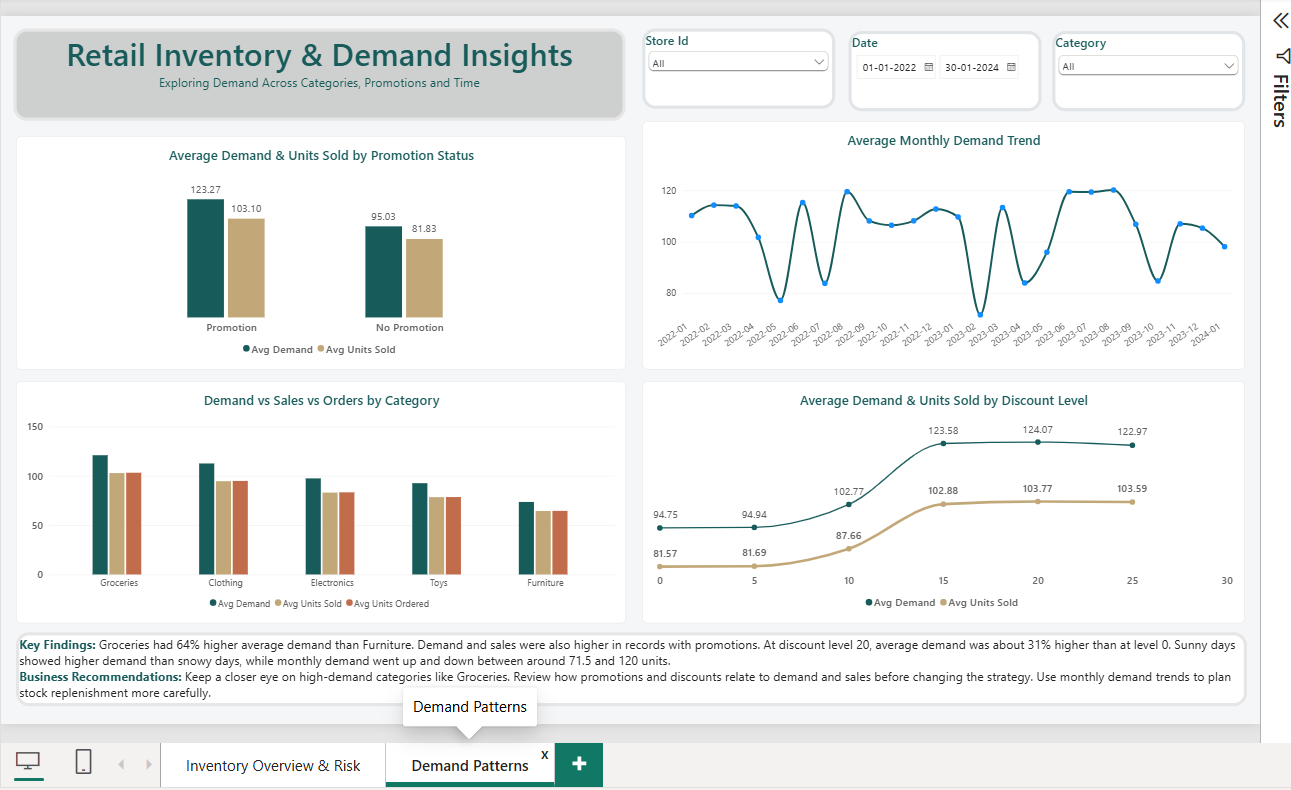

This screenshot's page, from the dashboard's own definition file:
{"tool":"powerbi","page":{"name":"Demand Patterns","canvas":[1920,1080],"ordinal":1},"visuals":[{"type":"slicer","title":"Store Id","fields":{"Values":["demand_forecasting.Store ID"]},"box":[977.2,19.9,294,122],"z":9000},{"type":"slicer","title":"Date","fields":{"Values":["Calendar.Date"]},"box":[1292.1,23.5,294,122],"z":10000},{"type":"slicer","title":"Category","fields":{"Values":["demand_forecasting.Category"]},"box":[1603.4,23.5,294,122],"z":11000},{"type":"textbox","box":[19.9,19.9,933.8,141.2],"z":12000},{"type":"textbox","box":[22.1,939.9,1878,112.4],"z":13000},{"type":"clusteredColumnChart","title":"Average Demand & Units Sold by Promotion Status","fields":{"Category":["demand_forecasting.Promotion Status"],"Y":["Avg(demand_forecasting.Demand)","Avg(demand_forecasting.Units Sold)"]},"box":[22.9,183,930.4,356.5],"z":13001},{"type":"lineChart","title":"Average Monthly Demand Trend","fields":{"Category":["Calendar.Year-Month"],"Y":["Avg(demand_forecasting.Demand)"]},"box":[978.1,160.2,919,379.4],"z":13002},{"type":"clusteredColumnChart","title":"Demand vs Sales vs Orders by Category","fields":{"Category":["demand_forecasting.Category"],"Y":["#Measures.Avg Demand","Avg(demand_forecasting.Units Sold)","Avg(demand_forecasting.Units Ordered)"]},"box":[22.9,556.7,930.4,369.9],"z":13003},{"type":"lineChart","title":"Average Demand & Units Sold by Discount Level","fields":{"Category":["demand_forecasting.Discount"],"Y":["Avg(demand_forecasting.Demand)","Avg(demand_forecasting.Units Sold)"]},"box":[978.1,556.7,919,369.9],"z":13004}]}

Visuals, with their boxes on the page's 1920x1080 design canvas (x1, y1, x2, y2). These are canvas units, not pixel positions in the 1291x790 screenshot, which may show the page scaled, cropped or inside an application window:
"Store Id" slicer: (977,20,1271,142)
"Date" slicer: (1292,24,1586,146)
"Category" slicer: (1603,24,1897,146)
textbox: (20,20,954,161)
textbox: (22,940,1900,1052)
"Average Demand & Units Sold by Promotion Status" clusteredColumnChart: (23,183,953,540)
"Average Monthly Demand Trend" lineChart: (978,160,1897,540)
"Demand vs Sales vs Orders by Category" clusteredColumnChart: (23,557,953,927)
"Average Demand & Units Sold by Discount Level" lineChart: (978,557,1897,927)
